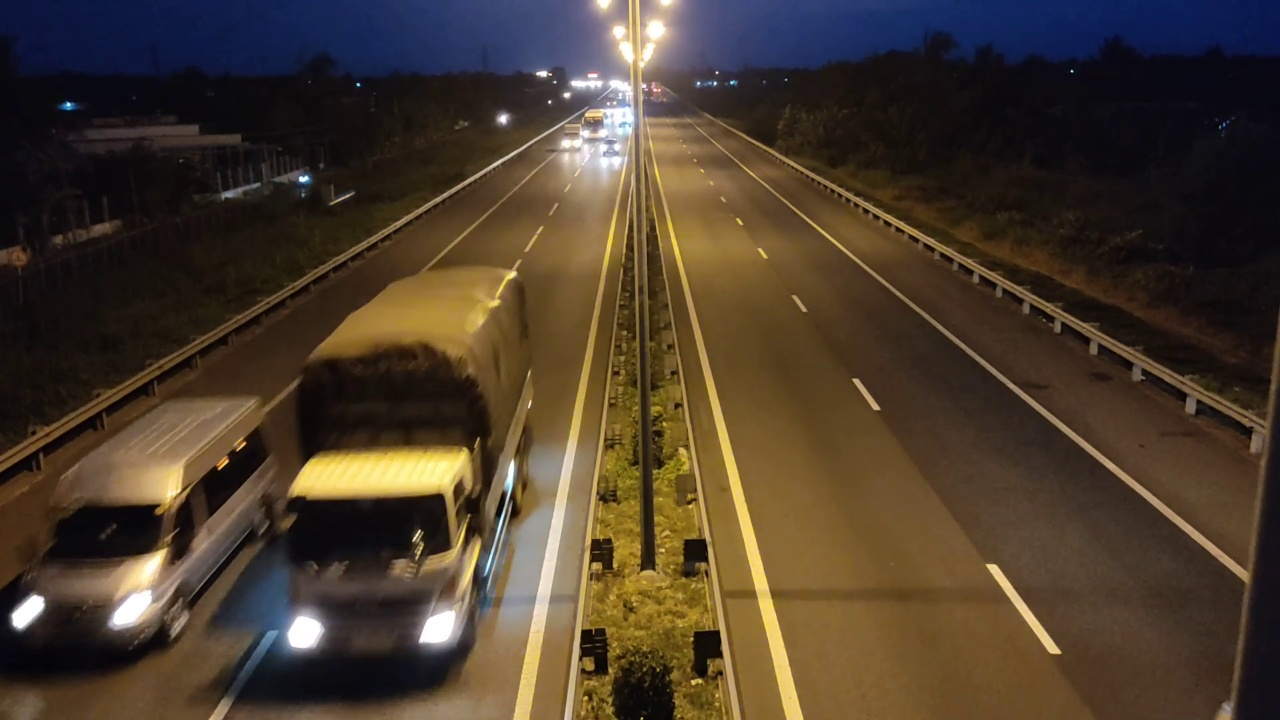car: (3, 392, 285, 657)
truck: (279, 265, 536, 677)
